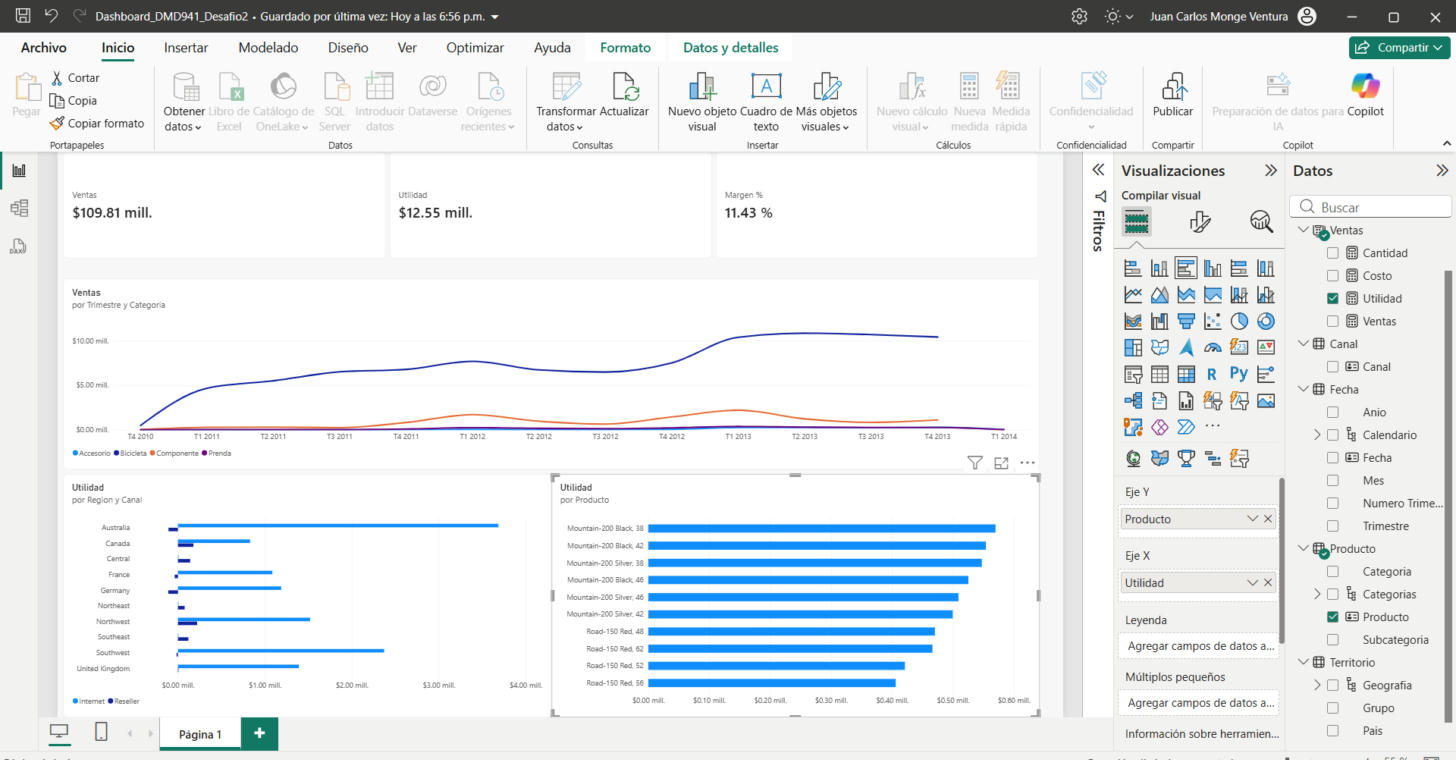

This screenshot's page, from the dashboard's own definition file:
{"tool":"powerbi","page":{"name":"Página 1","canvas":[1920,1080],"ordinal":0},"visuals":[{"type":"cardVisual","fields":{"Data":["Ventas.Ventas","Ventas.Utilidad","Measures.Margen %"]},"box":[10.9,0,1864,204.5],"z":0},{"type":"lineChart","fields":{"Category":["Fecha.Trimestre"],"Series":["Producto.Categoria"],"Y":["Ventas.Ventas"]},"box":[10.9,242.5,1864,363.7],"z":1},{"type":"clusteredBarChart","fields":{"Category":["Territorio.Region"],"Series":["Canal.Canal"],"Y":["Ventas.Utilidad"]},"box":[10.9,615.3,932,465.1],"z":2},{"type":"clusteredBarChart","fields":{"Category":["Producto.Producto"],"Y":["Ventas.Utilidad"]},"box":[943,615,932,465],"z":3}]}

Visuals, with their boxes on the page's 1920x1080 design canvas (x1, y1, x2, y2). These are canvas units, not pixel positions in the 1456x760 screenshot, which may show the page scaled, cropped or inside an application window:
cardVisual - Ventas.Ventas x Ventas.Utilidad: bbox(11, 0, 1875, 204)
lineChart - Fecha.Trimestre x Producto.Categoria: bbox(11, 242, 1875, 606)
clusteredBarChart - Territorio.Region x Canal.Canal: bbox(11, 615, 943, 1080)
clusteredBarChart - Producto.Producto x Ventas.Utilidad: bbox(943, 615, 1875, 1080)
